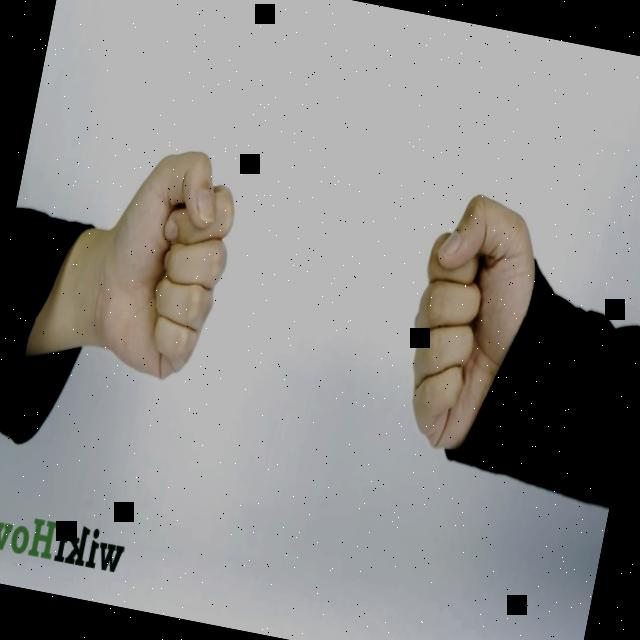Rock: (392, 184, 552, 461), (86, 136, 250, 390)
